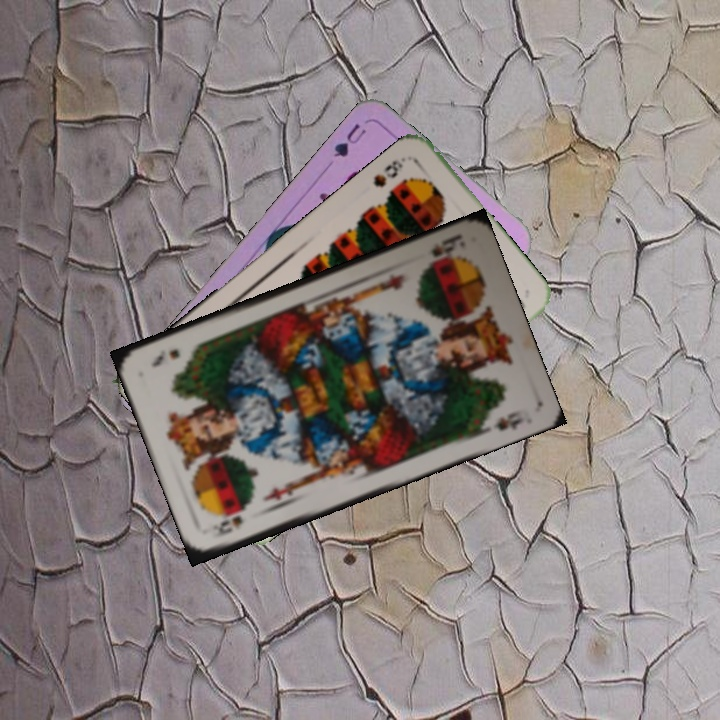GU: (329, 119, 369, 160)
S8: (369, 153, 409, 191)
SK: (424, 230, 465, 267), (208, 511, 246, 541)
